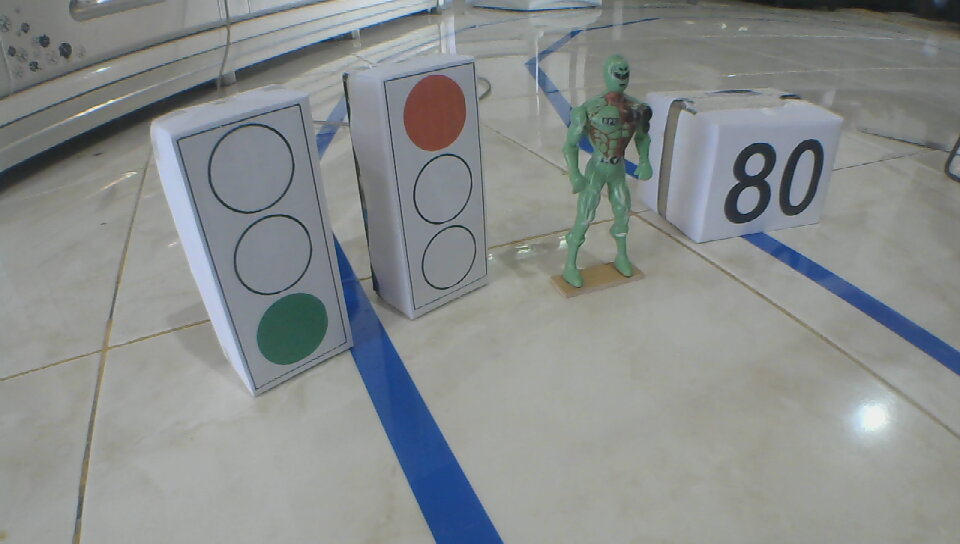Green Light: (203, 124, 330, 367)
Person: (559, 57, 657, 294)
Red Light: (401, 73, 477, 291)
Speed 80: (722, 141, 826, 225)
